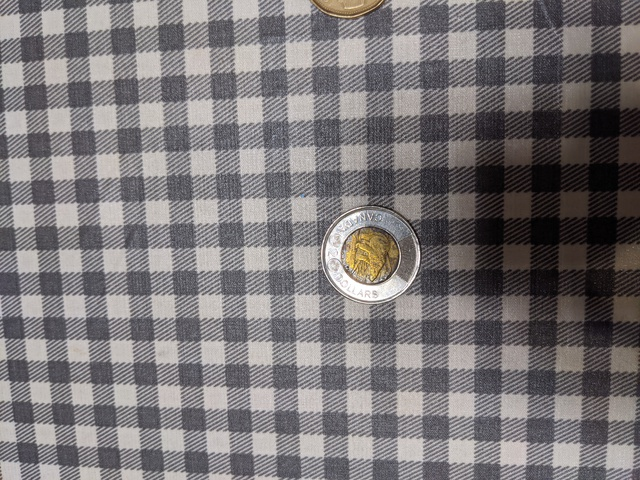twonie: (311, 201, 438, 312)
